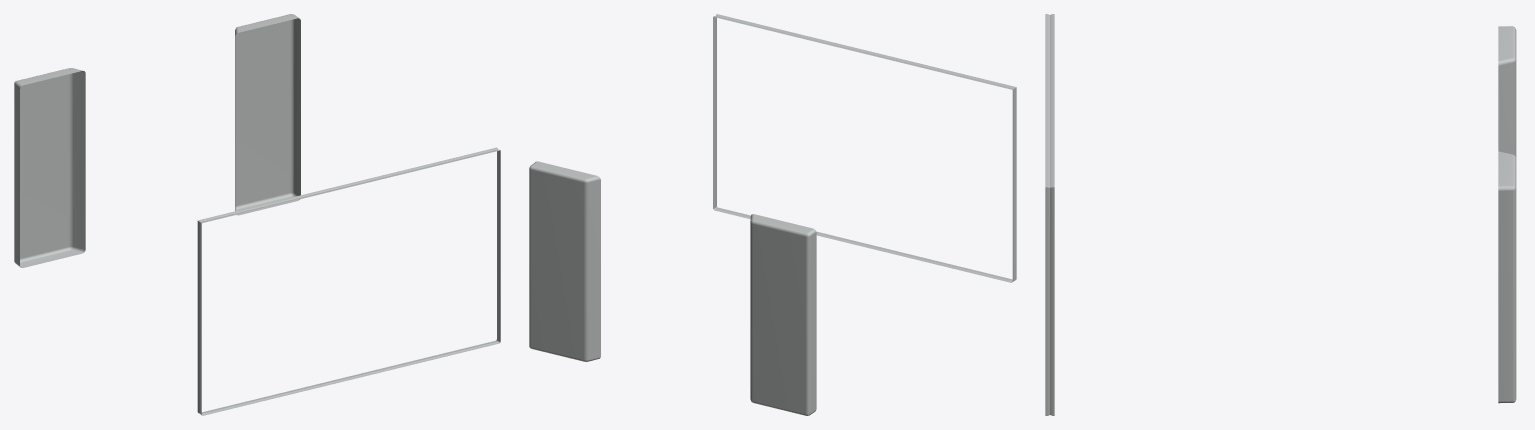
File: FridgebodymeshFridgeB4_0_GeomSubset_1.obj
3 renders of one model, left to right at view 1: azimuth 30°, elevation 25°; view 2: azimuth 150°, elevation 25°; view 3: azimuth 270°, elevation 25°, orthographic. The views are drawn at different scales.
Visible parts, largest first — view 1: FridgebodymeshFridgeB4_0_GeomSubset_1; view 2: FridgebodymeshFridgeB4_0_GeomSubset_1; view 3: FridgebodymeshFridgeB4_0_GeomSubset_1.
Part boxes in pixels (x1,y1,x2,y2): FridgebodymeshFridgeB4_0_GeomSubset_1: (14,14,500,415); FridgebodymeshFridgeB4_0_GeomSubset_1: (529,14,1016,415); FridgebodymeshFridgeB4_0_GeomSubset_1: (1045,14,1516,415).
Bounding box in the file's own units: 1.05 × 0.6452 × 1.21.
